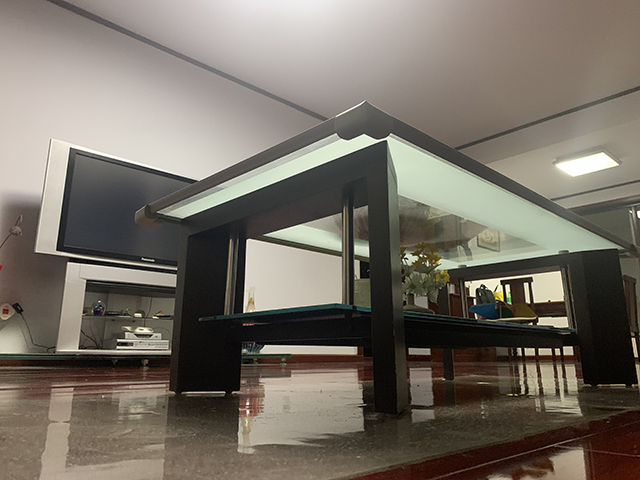cabinet: (1, 261, 177, 368)
stool: (498, 277, 565, 360)
table: (132, 99, 640, 415)
